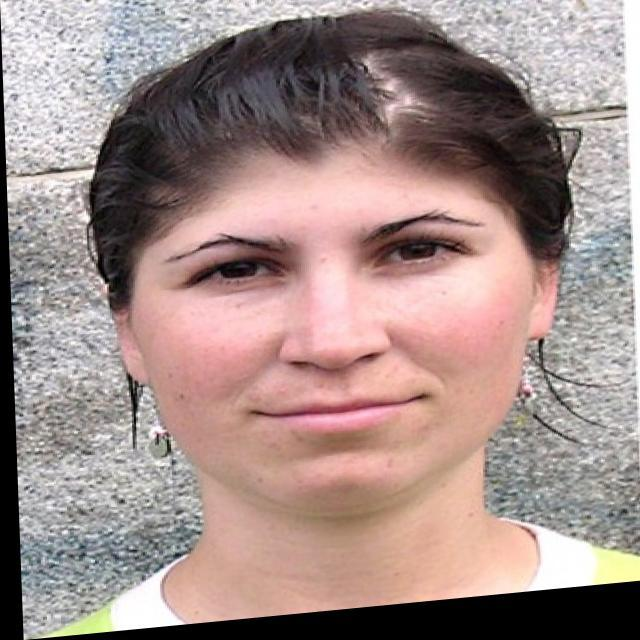Nonhelmet: (82, 8, 587, 519)
